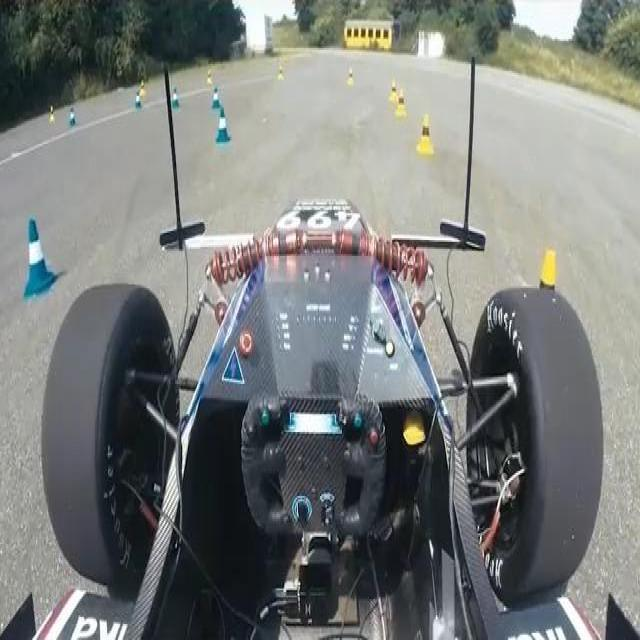blue_cone: (21, 213, 55, 299), (213, 107, 230, 144), (209, 82, 222, 112), (68, 108, 78, 130), (172, 87, 181, 111), (134, 90, 142, 112)
yellow_cone: (513, 242, 572, 454), (418, 110, 433, 159), (393, 89, 407, 123), (387, 76, 397, 102), (345, 66, 356, 86), (276, 62, 286, 80), (139, 76, 147, 98), (206, 67, 214, 87), (48, 106, 55, 124)
